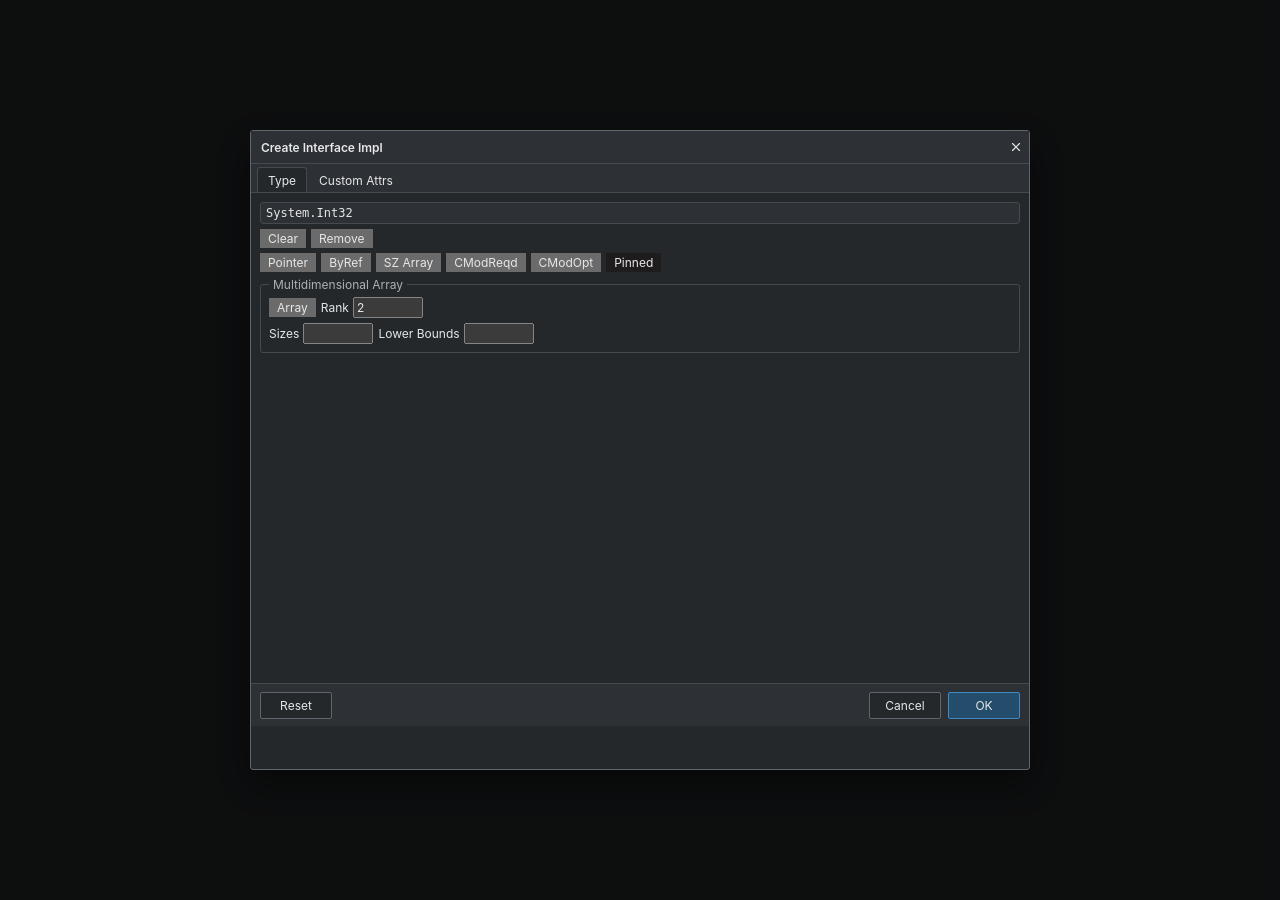
Scenario: TypeDefOrRefAndCaDialog › carries the custom attributes on the second page
The width and height of the screenshot is (1280, 900).
Click the tab "Custom Attrs": {"x": 356, "y": 180} [308,167,404,192]
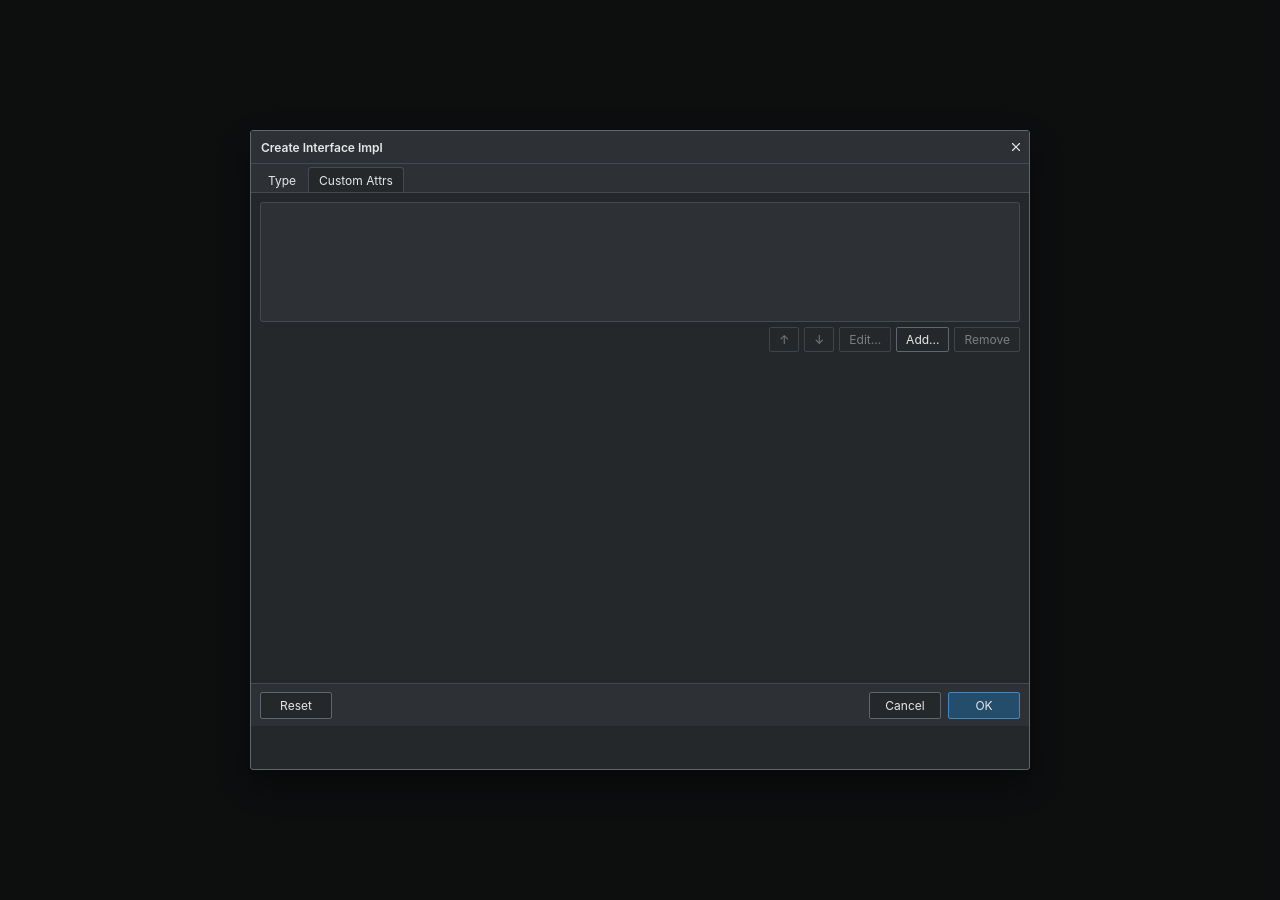
Check: the list named "Custom Attributes" is shown, box [260,202,1020,322]
